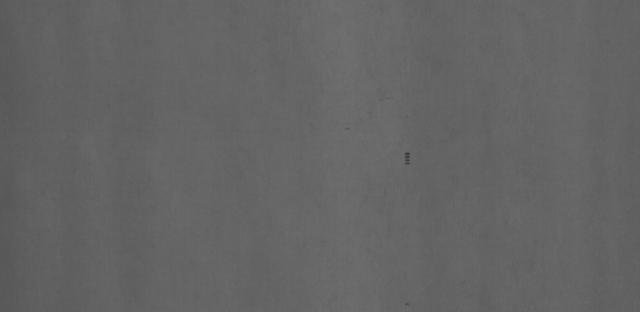oil_spot: (402, 149, 412, 168)
